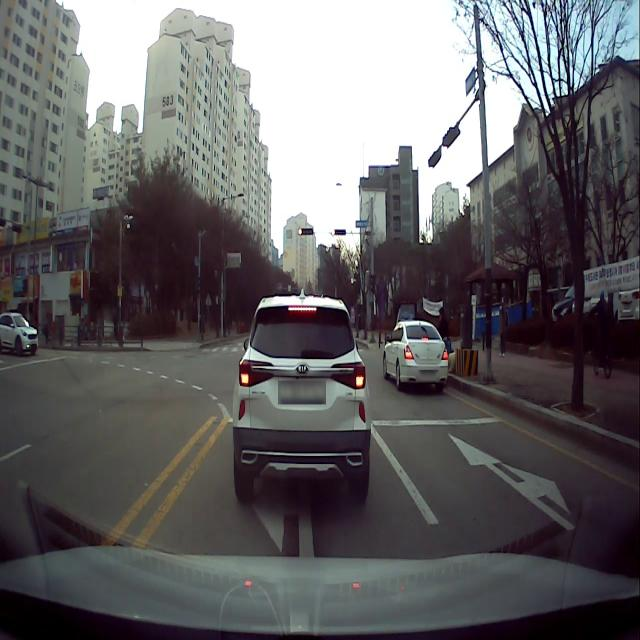Red Light: (298, 227, 302, 236), (331, 229, 335, 236)
